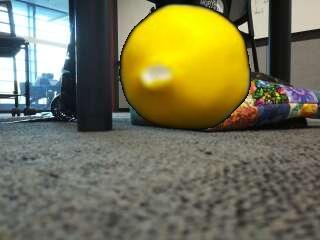lemon: (121, 5, 249, 128)
